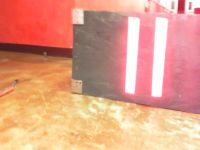switch: (150, 17, 169, 97), (125, 16, 139, 94)
